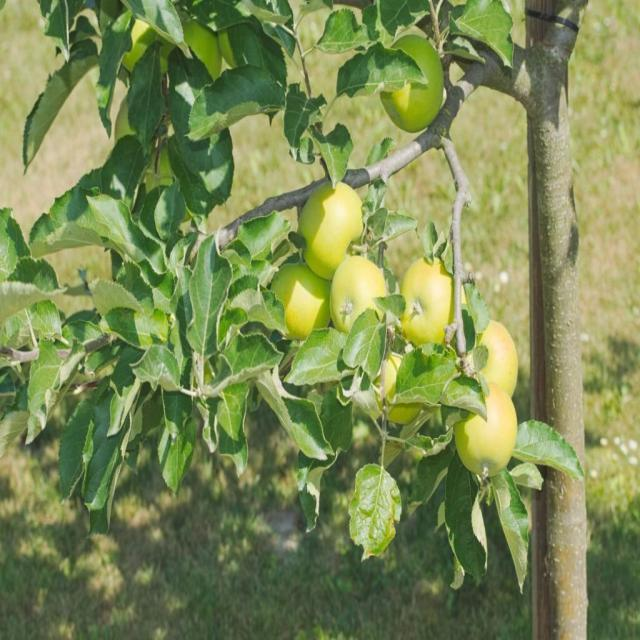Green Apple: (301, 185, 366, 270), (384, 40, 443, 129), (404, 255, 463, 343), (460, 388, 517, 475), (466, 313, 521, 398), (332, 259, 393, 333), (276, 263, 333, 339), (372, 348, 420, 430), (174, 15, 229, 82), (115, 94, 158, 165), (123, 14, 173, 74)
